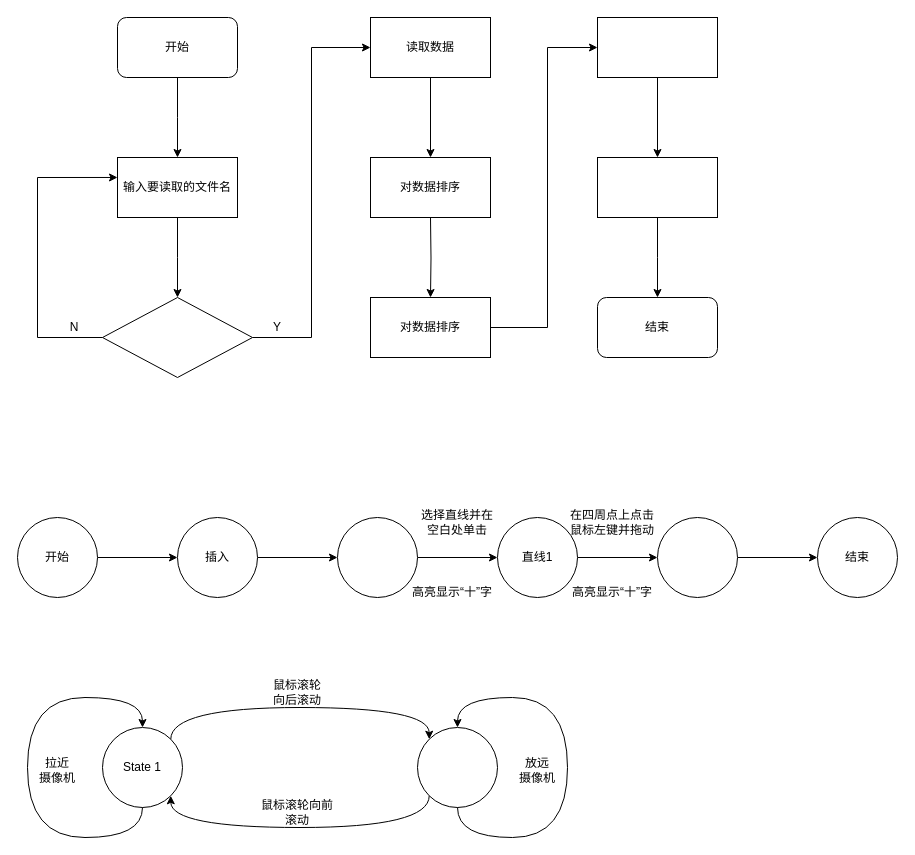
This 915x855 diagram has some shape labels left out. Here are the shapes that lost their labels. From the top down, the centre of each, then its label:
point (657, 47): 输入输出文件名
point (657, 187): 将数据输出 到输出文件中
point (177, 337): 文件是否存在？
point (377, 557): 形状
point (697, 557): 直线1 修改大小
point (457, 767): State 2
